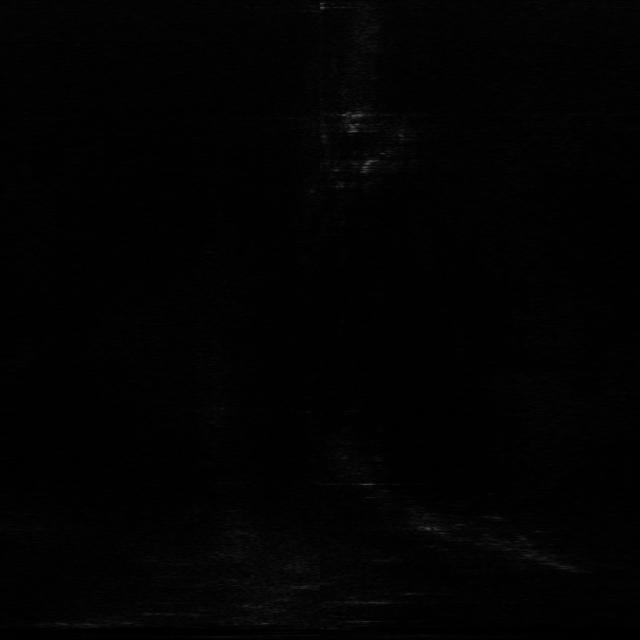rov: (337, 108, 367, 139)
